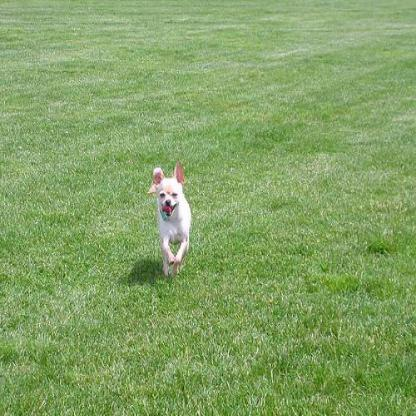dog: (148, 160, 197, 278)
